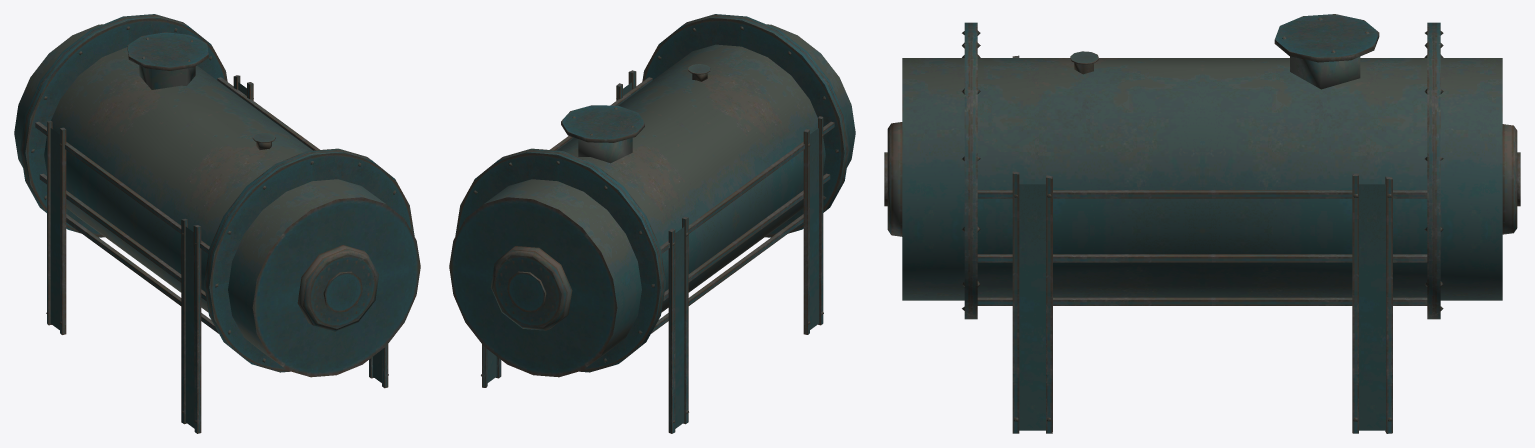
File: Prop_Yg01.glb
3 renders of one model, left to right at view 1: azimuth 30°, elevation 25°; view 2: azimuth 150°, elevation 25°; view 3: azimuth 270°, elevation 25°, orthographic. The views are drawn at different scales.
Visible parts, largest first — view 1: xiutz_yg_01; view 2: xiutz_yg_01; view 3: xiutz_yg_01.
Boxes of the visible parts, bbox=[...] form: xiutz_yg_01: bbox=[14, 14, 420, 433]; xiutz_yg_01: bbox=[449, 14, 855, 433]; xiutz_yg_01: bbox=[884, 14, 1520, 433].
Size of the model in its own units: 3.31 by 4.18 by 7.05.
Materials: 1 (1 with a texture image).
